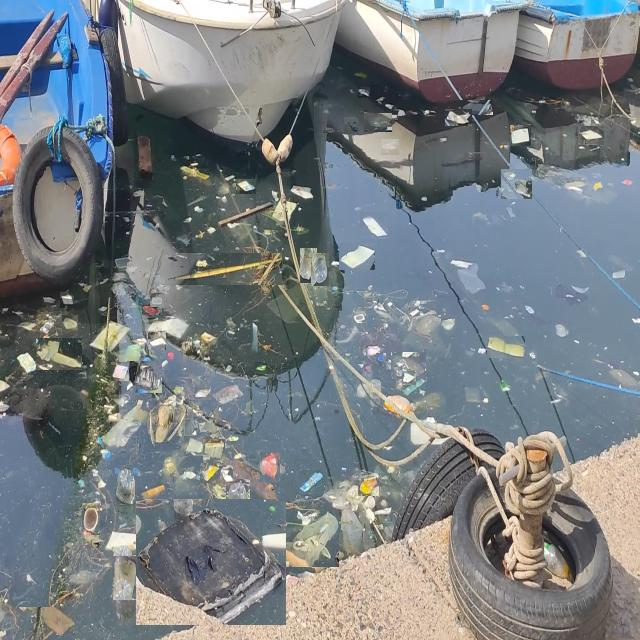Bottle cap: (376, 353, 386, 364), (131, 464, 140, 476), (145, 504, 154, 516), (167, 350, 175, 361), (104, 450, 112, 461), (339, 322, 347, 332), (331, 283, 338, 294), (364, 364, 372, 372), (421, 196, 427, 202)
Plastic: (96, 403, 150, 450), (89, 316, 131, 354), (104, 529, 162, 556), (36, 338, 82, 370), (450, 258, 487, 294), (146, 316, 190, 340), (339, 243, 375, 270), (501, 169, 532, 199), (487, 336, 525, 358), (211, 382, 245, 406), (360, 212, 388, 239), (178, 162, 212, 182), (524, 140, 546, 169), (16, 350, 40, 374), (203, 439, 226, 464), (578, 126, 604, 145), (445, 109, 472, 126), (510, 125, 531, 146), (290, 182, 314, 200), (472, 208, 492, 228), (464, 383, 482, 405), (302, 509, 323, 527), (111, 362, 129, 381), (148, 332, 166, 350), (132, 187, 146, 209), (236, 179, 256, 194), (381, 139, 399, 155), (220, 465, 233, 485), (176, 232, 192, 248), (62, 315, 78, 331), (181, 468, 197, 483), (471, 180, 485, 196), (60, 292, 74, 308), (194, 387, 211, 400), (402, 371, 416, 385), (366, 344, 380, 357), (195, 269, 209, 281), (523, 304, 535, 316), (192, 203, 204, 215), (205, 224, 217, 236), (506, 206, 516, 220), (358, 87, 370, 98), (42, 296, 56, 305), (182, 216, 193, 226), (477, 346, 487, 356), (528, 350, 537, 361), (386, 112, 398, 120), (439, 136, 448, 143)
Plastic bag: (280, 510, 340, 567), (127, 361, 162, 393), (552, 282, 590, 308), (391, 352, 426, 379), (364, 113, 392, 132), (344, 117, 359, 134)
Plastic bottle: (112, 556, 138, 600), (110, 542, 136, 580), (226, 480, 250, 520), (115, 465, 137, 504), (300, 248, 317, 283), (312, 253, 329, 286), (458, 100, 493, 115), (369, 377, 382, 400)
Plastic cup: (82, 504, 100, 536), (112, 254, 136, 272), (184, 436, 205, 456), (554, 323, 569, 339), (353, 308, 368, 323), (441, 317, 455, 331), (150, 294, 164, 308), (612, 268, 626, 280)
Plastic packaging: (260, 452, 280, 482), (299, 470, 324, 494), (358, 473, 379, 496), (401, 376, 427, 394), (200, 463, 220, 483), (142, 304, 162, 318), (499, 378, 512, 393), (90, 497, 102, 511), (255, 362, 267, 374), (621, 177, 634, 188), (592, 181, 604, 192), (227, 435, 240, 445)
Undefined trash: (136, 500, 286, 626)
Wood: (165, 253, 282, 285), (20, 607, 76, 640), (216, 199, 275, 228), (134, 130, 154, 182), (574, 111, 601, 128)
